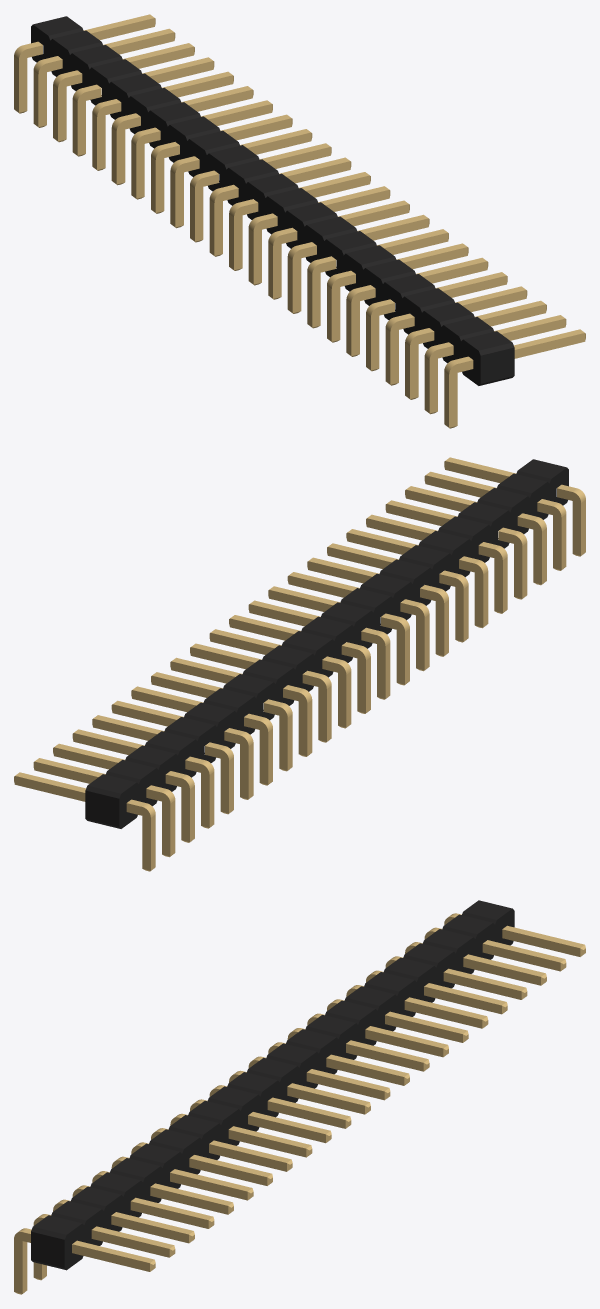
The model's file is kc-pinheader_1x23_p2.54mm_horizontal.glb.
The picture shows the model from 3 angles, top to bottom: view 1: azimuth 30°, elevation 25°; view 2: azimuth 150°, elevation 25°; view 3: azimuth 330°, elevation 25°; orthographic projection.
Visible parts, largest first — view 1: 0.75_0.5_0.25_0.9, 0_0_0_0; view 2: 0.75_0.5_0.25_0.9, 0_0_0_0; view 3: 0.75_0.5_0.25_0.9, 0_0_0_0.
Part boxes in pixels (x1,y1,x2,y2): 0.75_0.5_0.25_0.9: [14, 14, 585, 428]; 0_0_0_0: [31, 16, 514, 385]; 0.75_0.5_0.25_0.9: [14, 457, 585, 871]; 0_0_0_0: [85, 459, 568, 828]; 0.75_0.5_0.25_0.9: [14, 913, 585, 1294]; 0_0_0_0: [31, 900, 514, 1270].
Bounding box in the file's own units: 1.04 × 0.5539 × 5.84.
